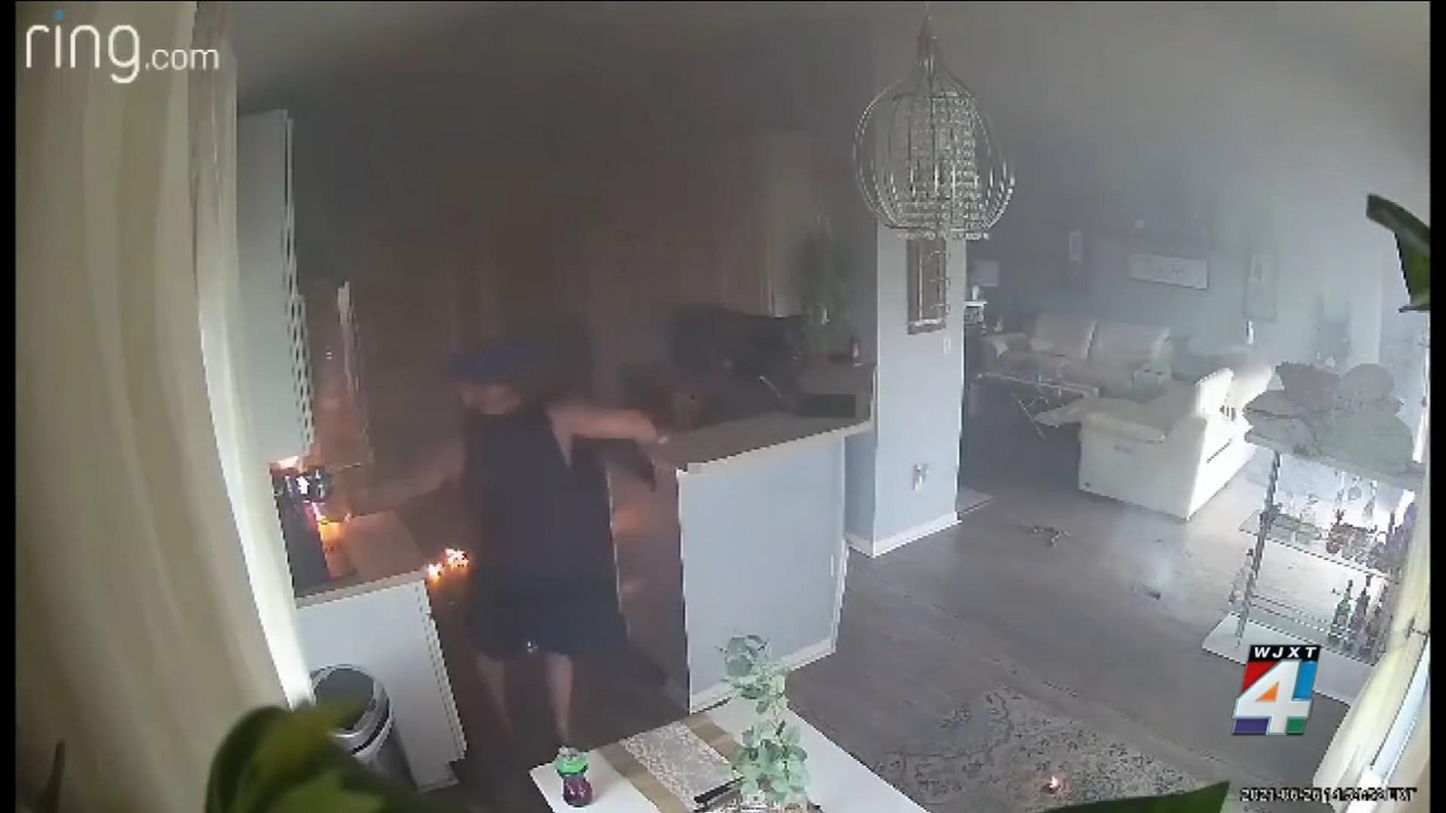fire: (427, 547, 468, 578)
